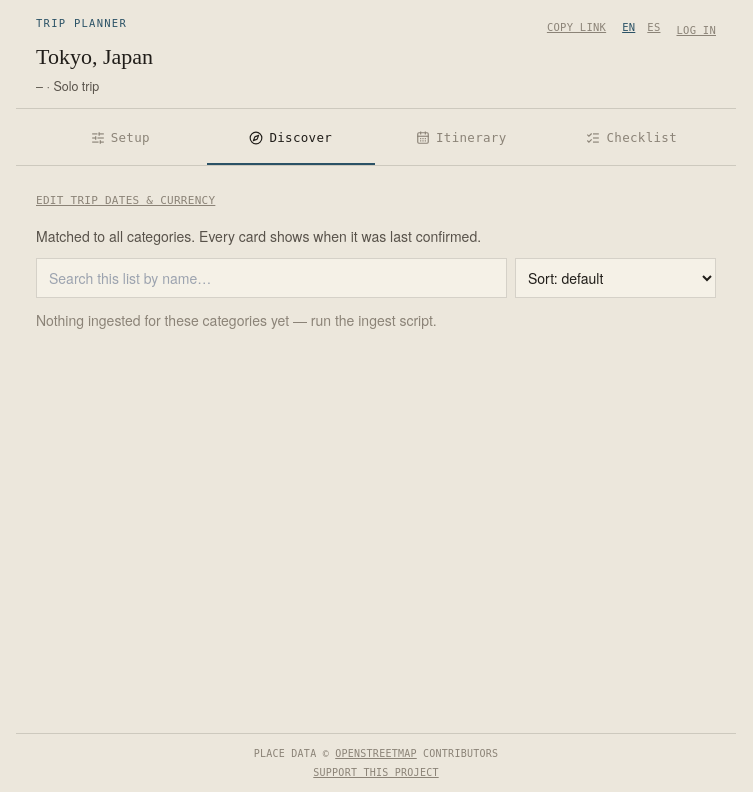
Test case: share / copy link › falls back to a real clipboard copy when the Web Share API isn't available
Expected: the heading "Tokyo, Japan" is shown, x1=36 y1=44 x2=153 y2=69
Click the button "Copy link": (577, 28) x1=547 y1=20 x2=606 y2=36
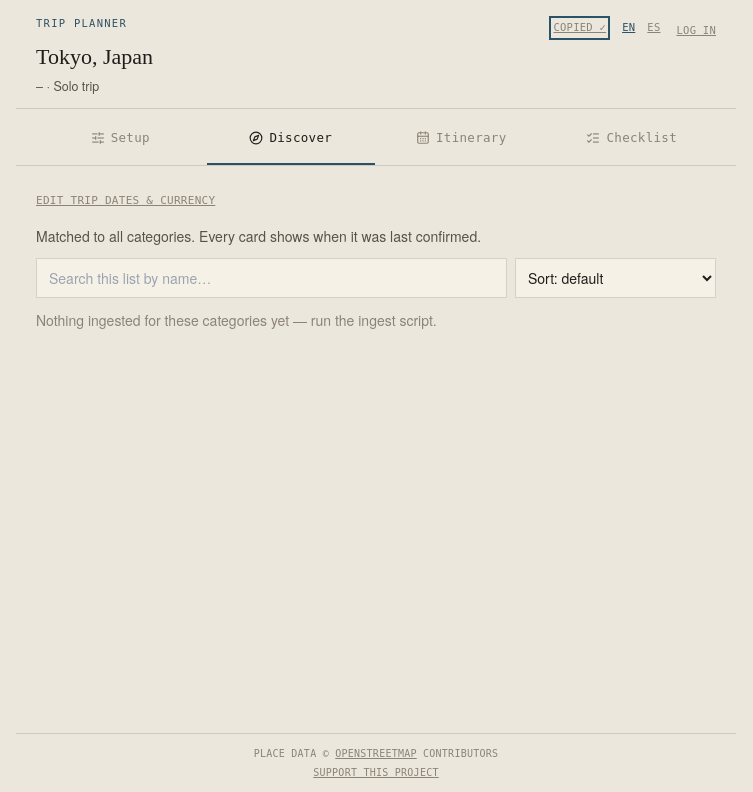
Result: the text "Copied ✓" is shown at x1=554 y1=21 x2=606 y2=33
